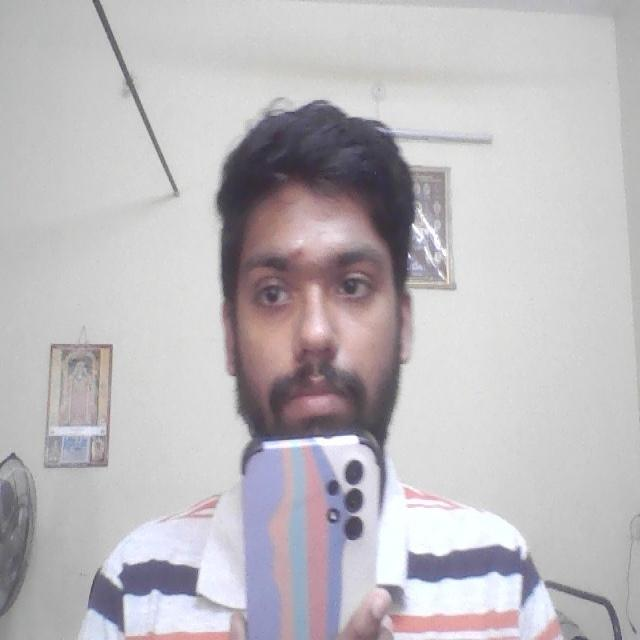Mobile: (234, 419, 389, 640)
